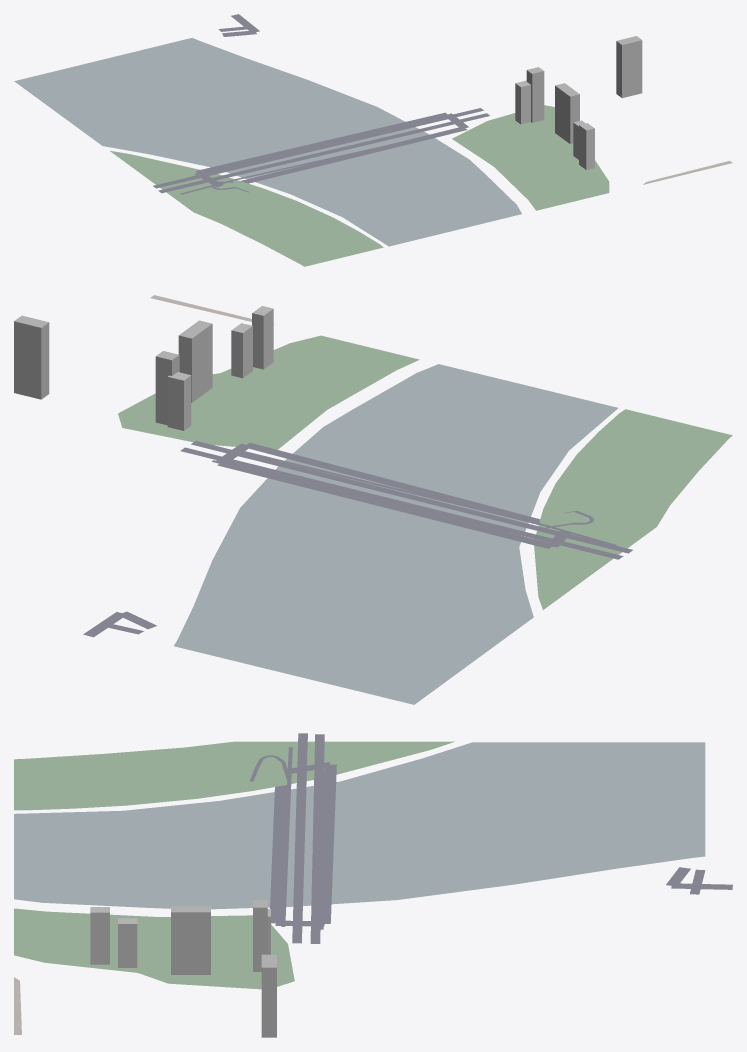
The model's file is 122_83_mid.glb.
3 renders of one model, top to bottom at view 1: azimuth 30°, elevation 25°; view 2: azimuth 150°, elevation 25°; view 3: azimuth 270°, elevation 25°, orthographic. The views are drawn at different scales.
Size of the model in its own units: 512 by 55.72 by 520.
